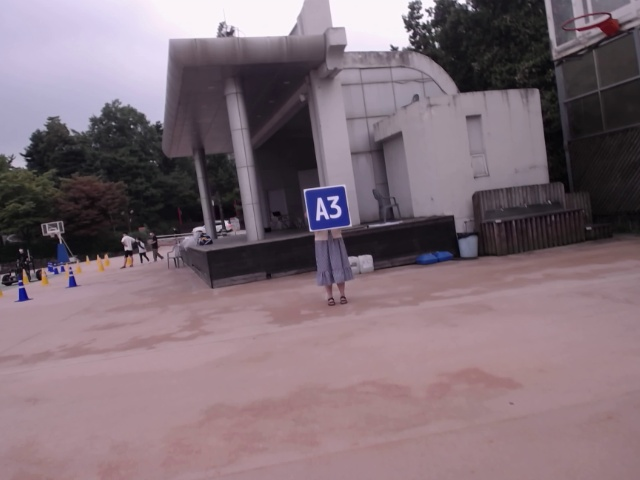delivery_a3: (304, 186, 351, 231)
